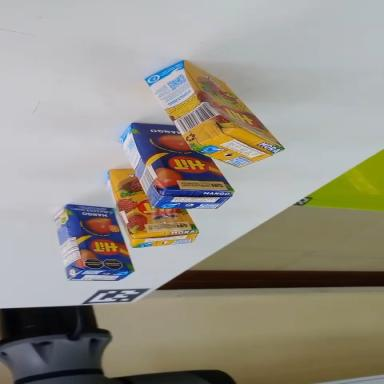HIT-MANGO: (107, 99, 236, 237), (44, 191, 135, 296)
HIT-MORA: (135, 41, 285, 195), (81, 159, 205, 273)
cara_F: (123, 97, 234, 223), (181, 49, 284, 162), (107, 158, 198, 237), (66, 191, 136, 286)
